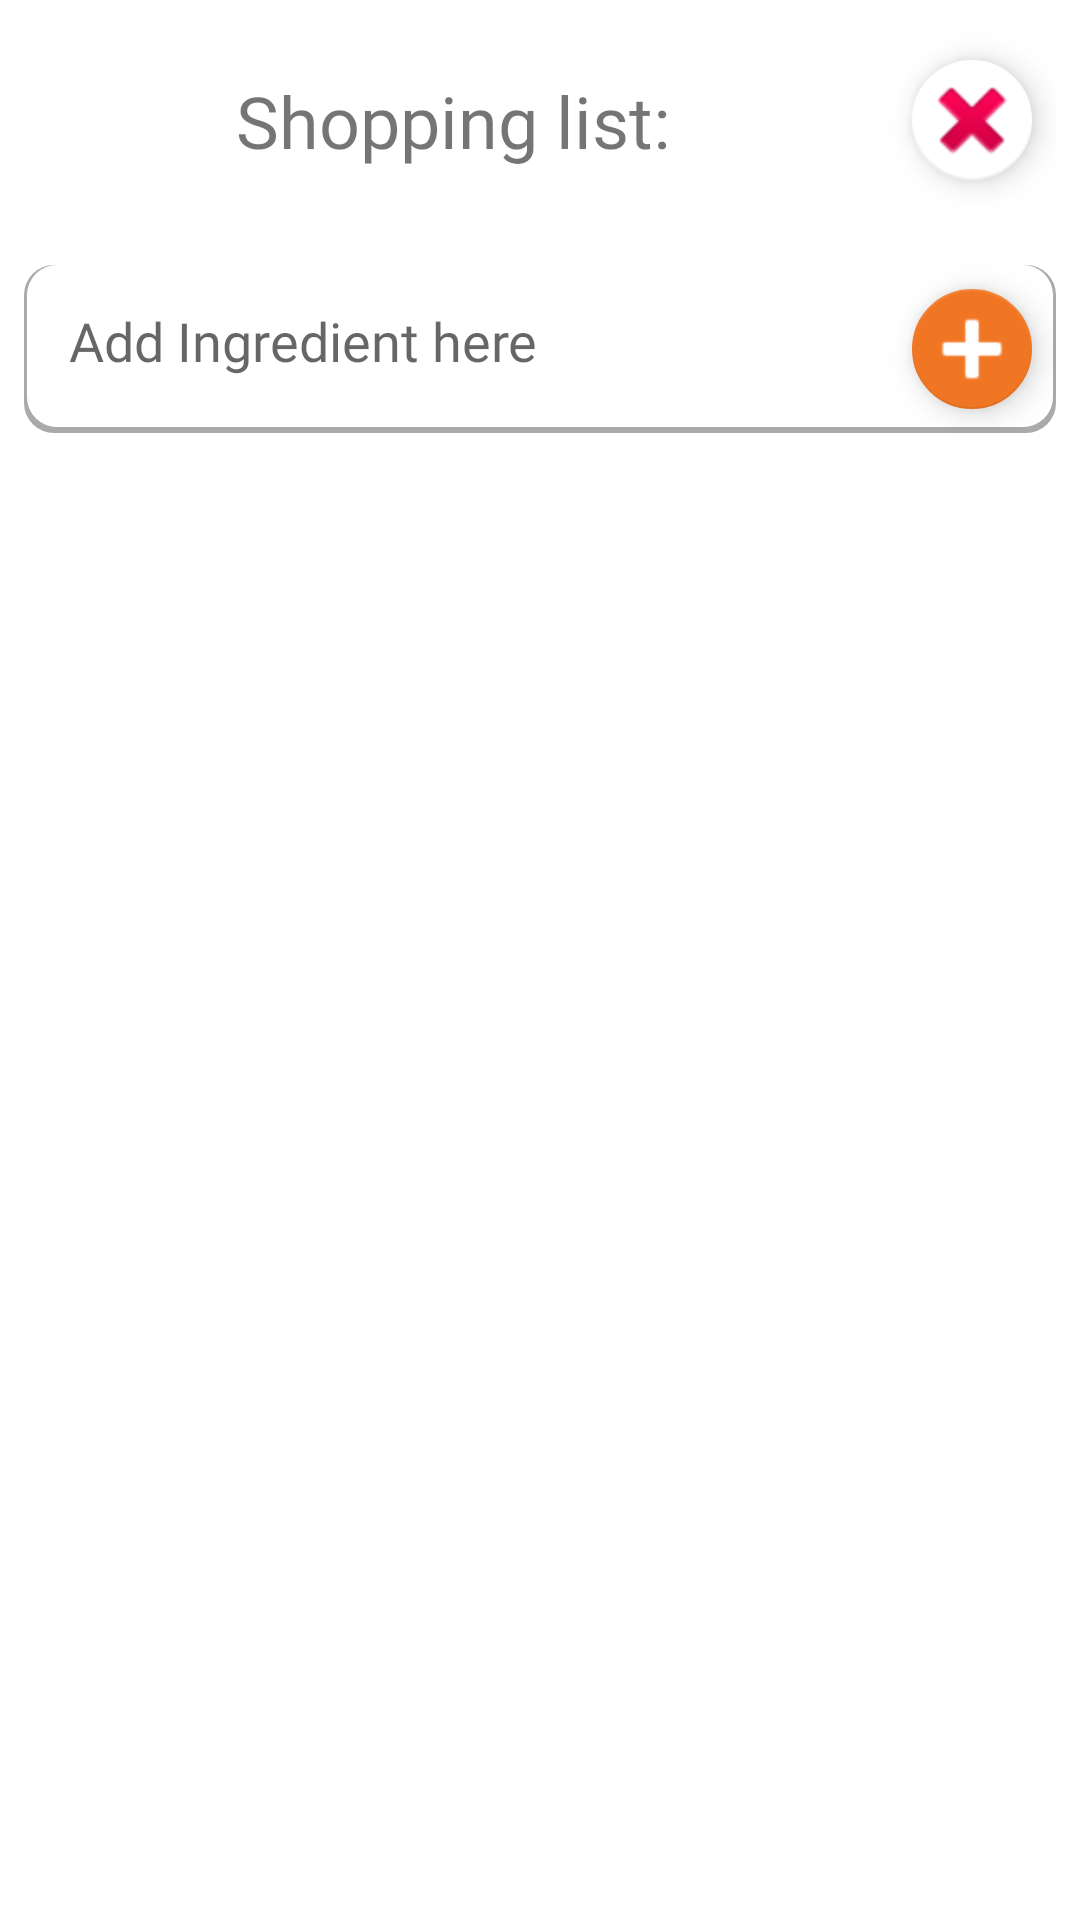

Named icons in this screenshot (1080w x 1920h) and their centers, point (x, y):
delete: point (985, 131)
